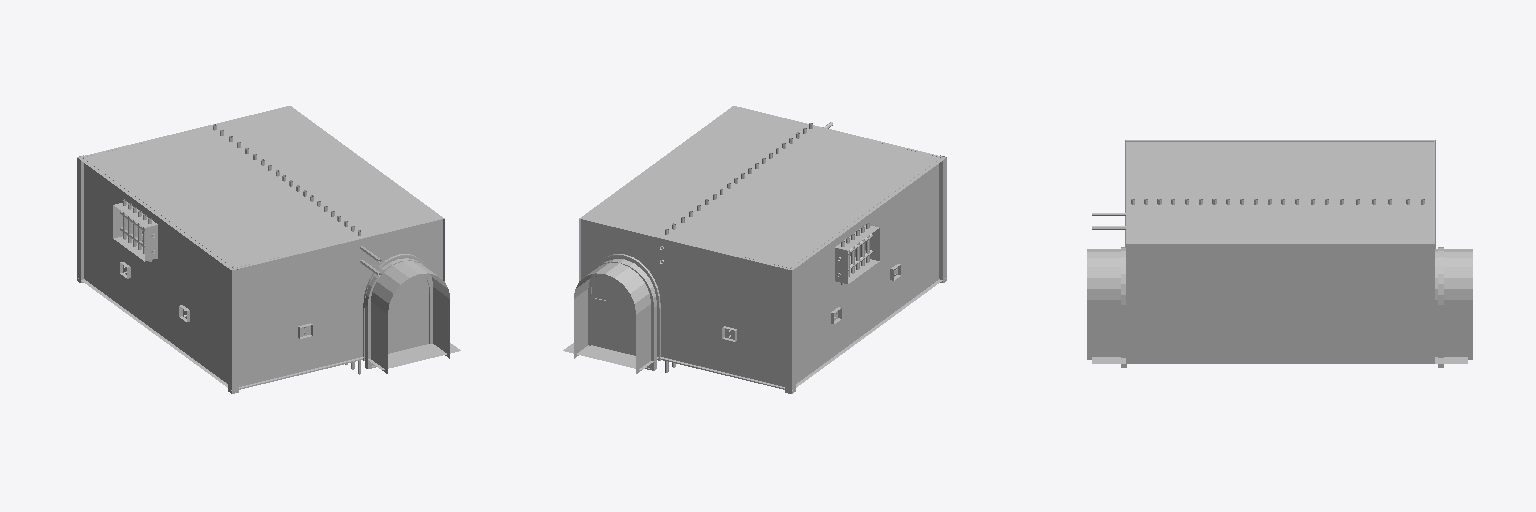
Rendered from Build1.obj.
3 renders of one model, left to right at view 1: azimuth 30°, elevation 25°; view 2: azimuth 150°, elevation 25°; view 3: azimuth 270°, elevation 25°, orthographic.
Parts seen in each view (by area): view 1: defaultMaterial.004; view 2: defaultMaterial.004; view 3: defaultMaterial.004.
Boxes of the visible parts, <box> form: defaultMaterial.004: <box>77,106,460,393</box>; defaultMaterial.004: <box>563,106,946,393</box>; defaultMaterial.004: <box>1087,140,1472,367</box>.
Bounding box in the file's own units: 4.81 × 2.94 × 7.24.